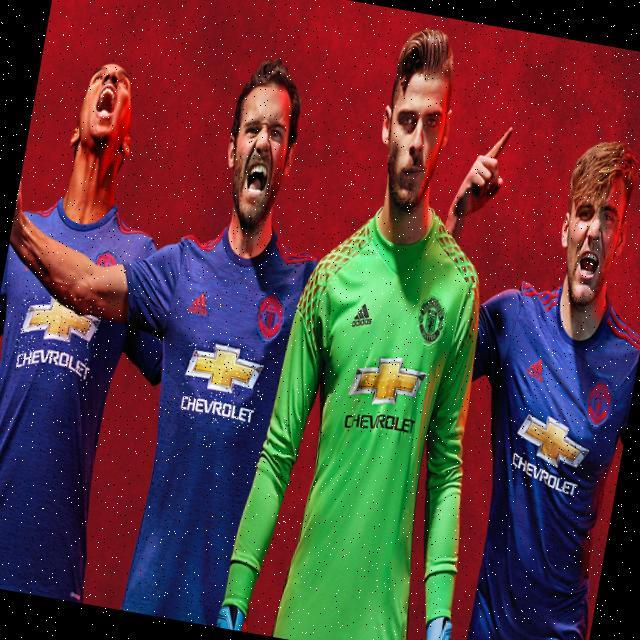Adidas: (351, 295, 379, 333), (187, 287, 213, 322), (523, 354, 549, 388)
Chevrolet: (11, 290, 106, 386), (342, 348, 431, 443), (176, 337, 266, 429), (507, 409, 593, 502)
